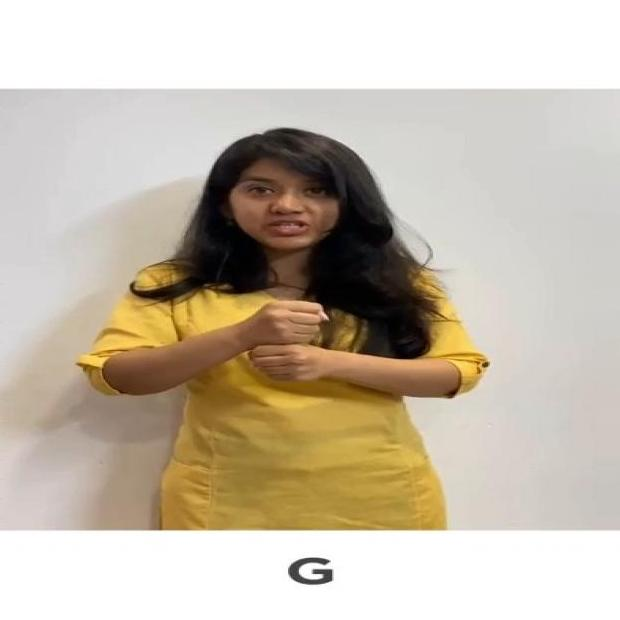F: (209, 289, 385, 400)
